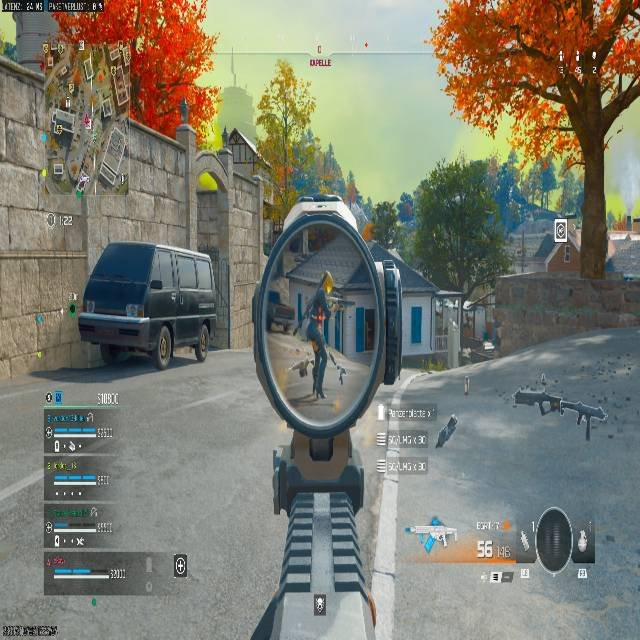player: (290, 273, 339, 380)
